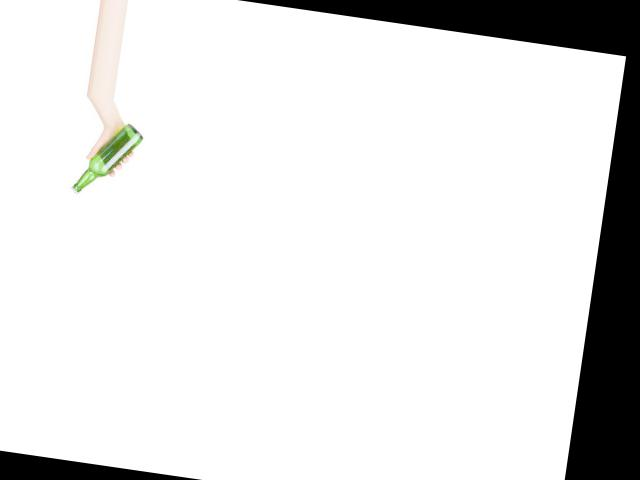beer: (70, 114, 144, 200)
